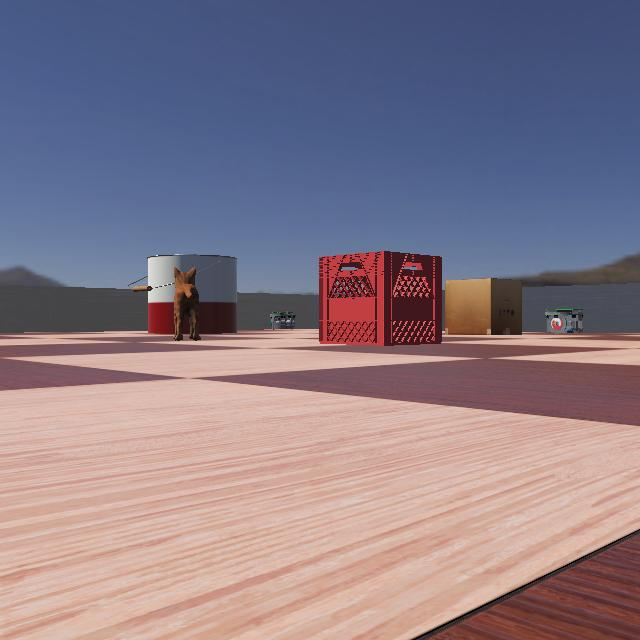cardboard-box: (437, 278, 531, 334), (437, 278, 531, 334)
cat: (148, 257, 212, 341), (148, 257, 212, 341), (148, 257, 212, 341)
plastic-crate: (318, 250, 452, 346)
